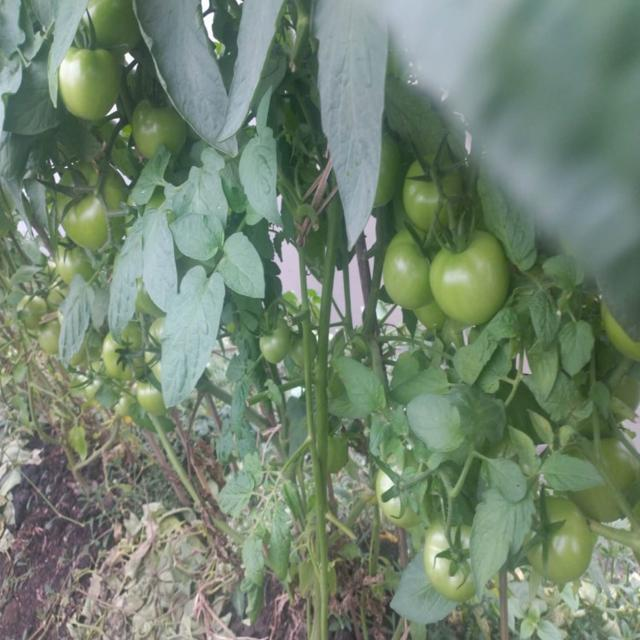tomato: (429, 236, 511, 321), (527, 494, 595, 582), (54, 164, 114, 256), (65, 46, 123, 123), (402, 159, 455, 231), (379, 232, 431, 305), (424, 523, 474, 594), (375, 457, 422, 524), (133, 94, 180, 154), (84, 1, 142, 47), (596, 432, 640, 492), (106, 334, 148, 382), (54, 238, 90, 284), (604, 322, 640, 364), (264, 321, 296, 368), (139, 383, 165, 422), (21, 290, 51, 323), (38, 319, 60, 356)
